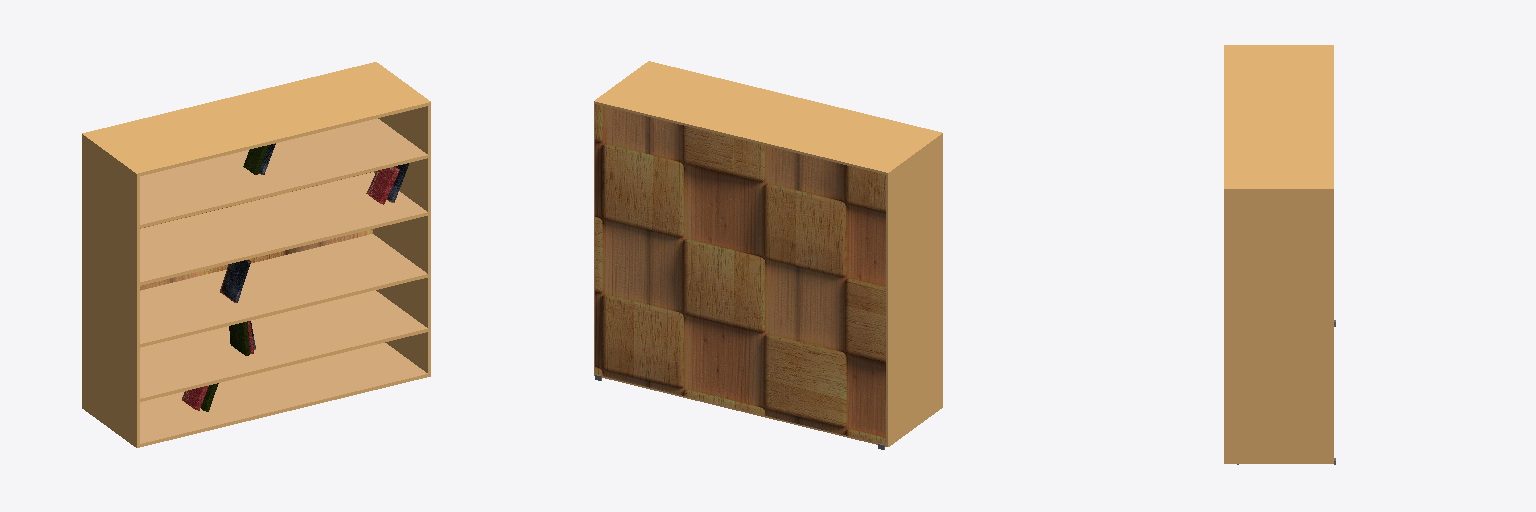
The picture shows the model from 3 angles: view 1: azimuth 30°, elevation 25°; view 2: azimuth 150°, elevation 25°; view 3: azimuth 270°, elevation 25°; orthographic projection.
Parts seen in each view (by area): view 1: Line01, Plane02, Box14, Box24, Box17; view 2: Plane02, Line01; view 3: Line01.
Part boxes in pixels (x1,y1,x2,y2): Line01: (82, 62, 430, 447); Plane02: (140, 172, 372, 290); Box14: (220, 260, 250, 302); Box24: (366, 166, 399, 204); Box17: (229, 321, 249, 355); Plane02: (595, 104, 885, 444); Line01: (594, 61, 942, 446); Line01: (1224, 45, 1333, 463).
Bounding box in the file's own units: 71.65 × 64.42 × 23.57.
Materials: 7 (6 with a texture image).